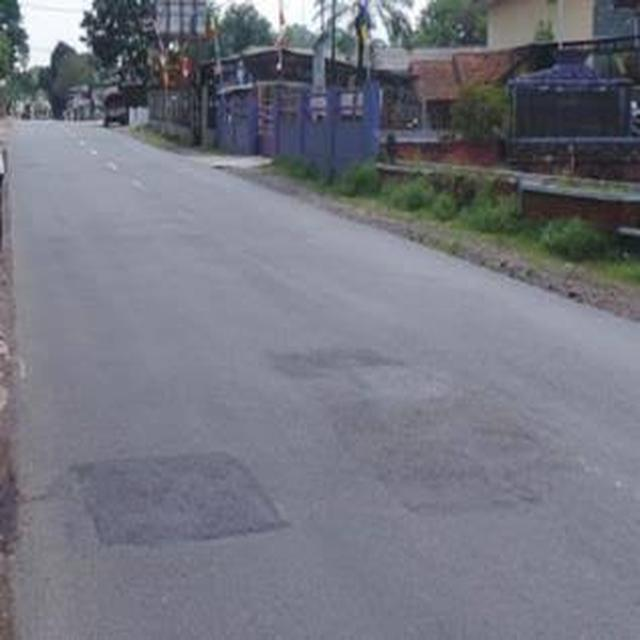Sambungan: (72, 447, 285, 553)
